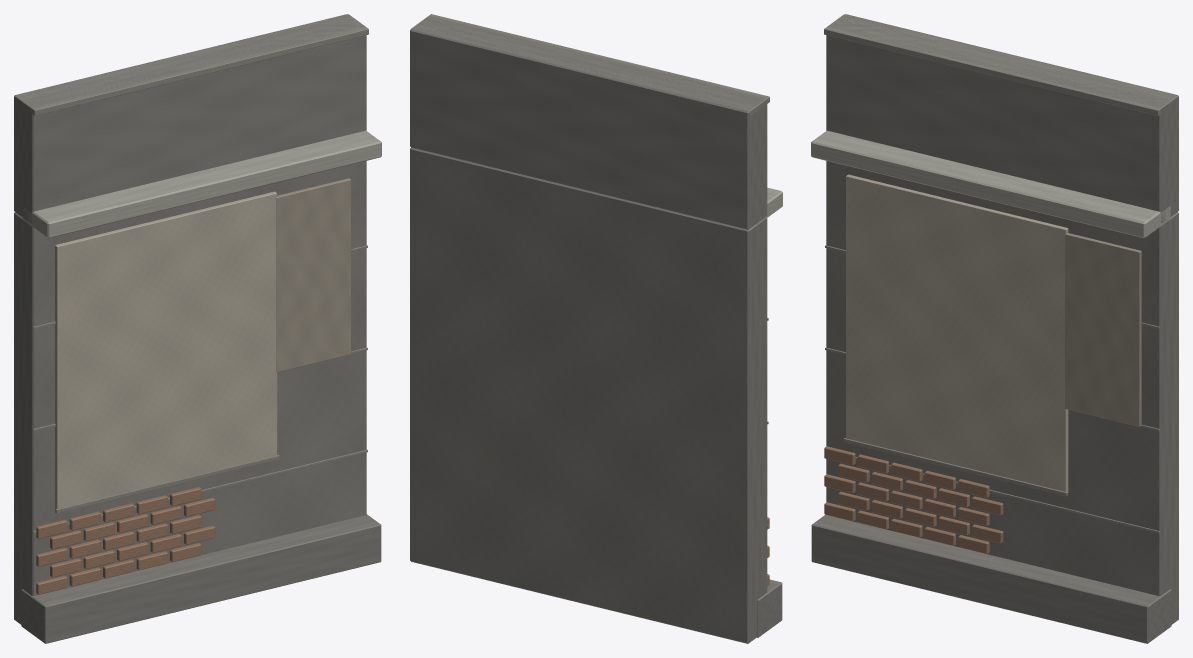
Rendered from F09_PatchedBlank_visual.glb.
3 views of the same model, side by side, from view 1: azimuth 30°, elevation 25°; view 2: azimuth 150°, elevation 25°; view 3: azimuth 330°, elevation 25° (orthographic).
Visible parts, largest first — view 1: F09_PatchedBlank__VIS; view 2: F09_PatchedBlank__VIS; view 3: F09_PatchedBlank__VIS.
Boxes of the visible parts, x1,y1,x2,y2 form: F09_PatchedBlank__VIS: (14,14,381,643); F09_PatchedBlank__VIS: (410,14,782,643); F09_PatchedBlank__VIS: (811,14,1178,643).
Bounding box in the file's own units: 12.08 × 18 × 2.16.
Materials: 1 (1 with a texture image).
